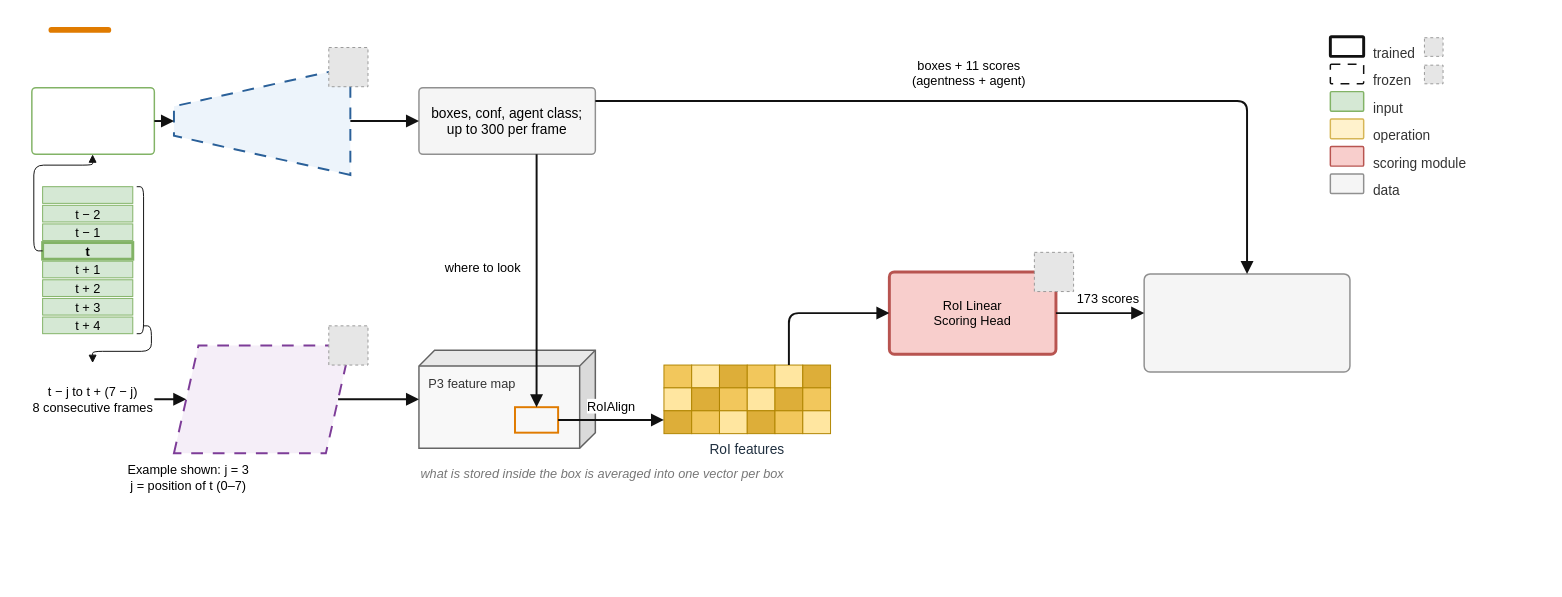
Some shapes in this 1562 by 597 pixel diagram are drawn without their labels. Grey dashed boxes stand in for pictures. The box of each missing label's shape, as (x1, y1, x2, y2) in pixels:
frame t: (31, 87, 155, 155)
per-frame detections: boxes + 184 scores 11 + 173 = 184: (1143, 273, 1350, 372)
ResNet50-I3D (I3D + FPN): (172, 344, 351, 454)
t − 3: (42, 186, 133, 203)
YOLOv8x detector: (172, 66, 351, 175)
